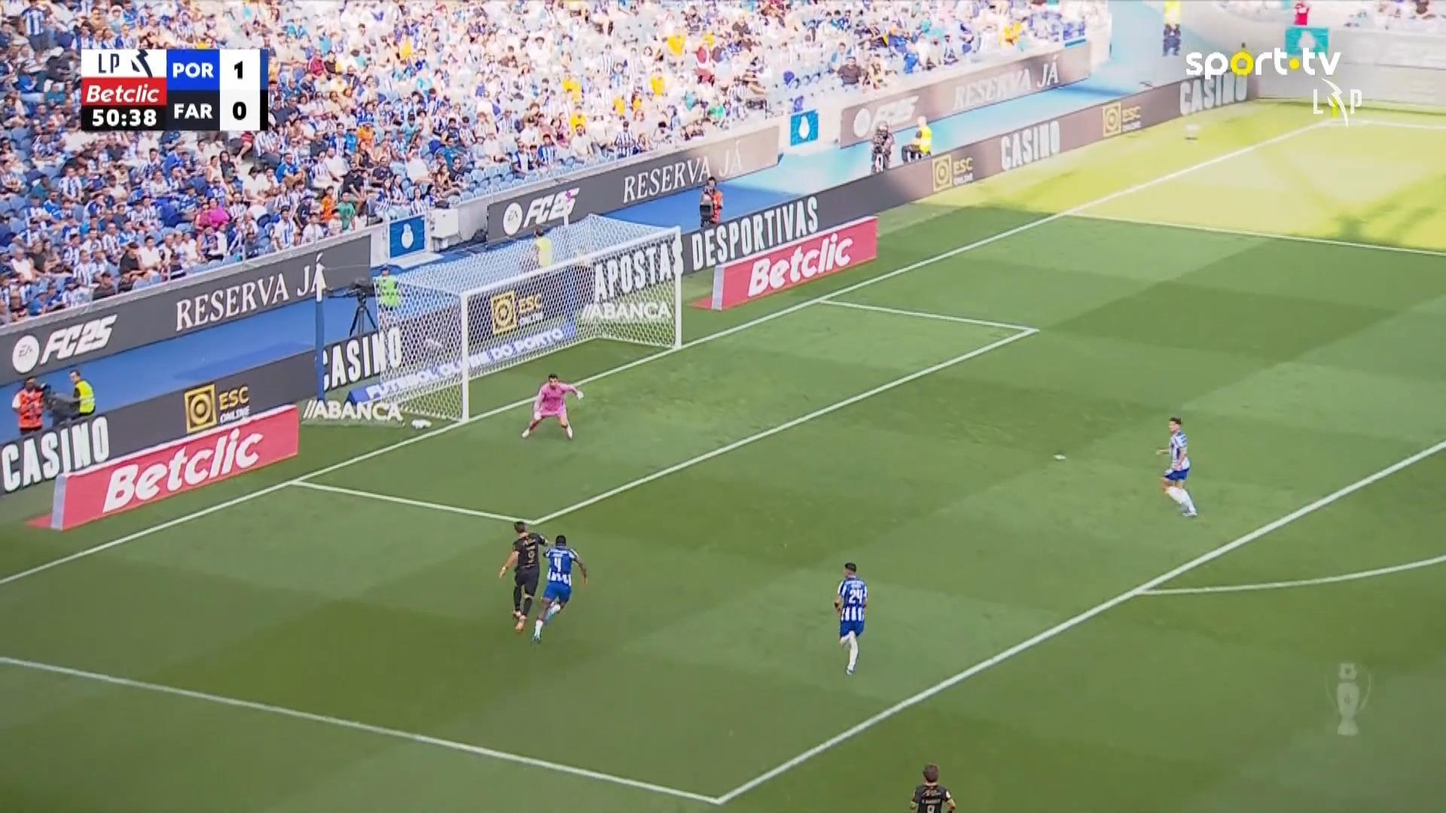goalkeeper: (520, 372, 584, 440)
player: (529, 533, 587, 645), (497, 519, 548, 632), (1155, 415, 1197, 517), (832, 561, 868, 675), (909, 763, 956, 811)
